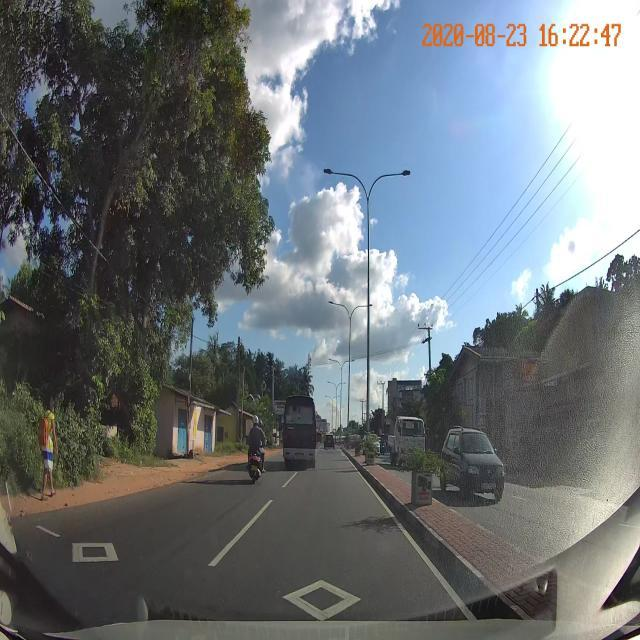diamond: (154, 570, 478, 622)
